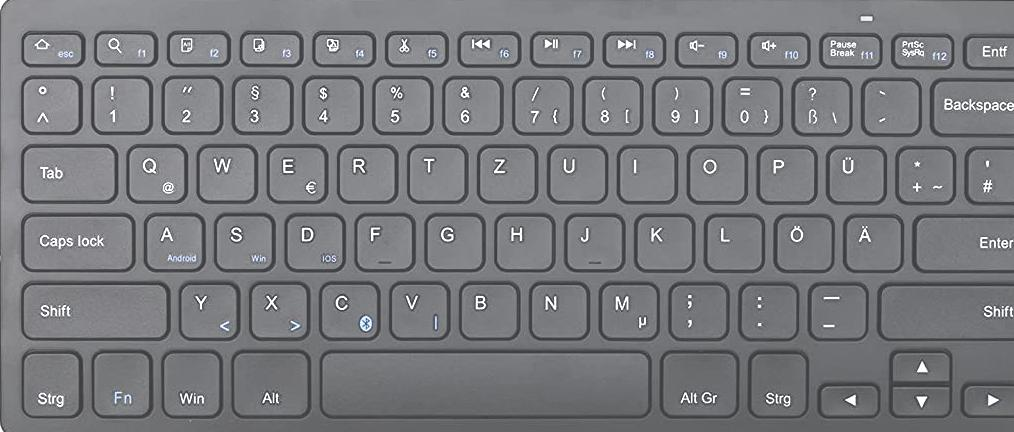0: (720, 75, 782, 134)
1: (89, 74, 151, 133)
2: (161, 74, 221, 132)
3: (230, 75, 291, 133)
4: (301, 74, 362, 133)
5: (370, 74, 432, 133)
6: (440, 75, 502, 133)
7: (511, 75, 572, 134)
8: (580, 76, 642, 134)
9: (650, 75, 712, 134)
a: (141, 210, 205, 270)
accent: (860, 76, 920, 134)
ae: (841, 212, 902, 271)
alt-left: (229, 348, 311, 418)
altgr-right: (658, 348, 740, 419)
b: (456, 280, 518, 337)
c: (316, 280, 380, 339)
caret: (19, 74, 79, 133)
comma: (666, 281, 727, 338)
d: (282, 212, 344, 271)
del: (927, 76, 1014, 135)
e: (264, 144, 327, 202)
enter: (912, 212, 1014, 272)
f: (352, 212, 412, 270)
g: (422, 211, 483, 270)
h: (492, 212, 553, 270)
hash: (964, 145, 1014, 204)
i: (615, 144, 675, 202)
j: (563, 211, 622, 270)
k: (633, 211, 693, 270)
keyboard: (1, 1, 1014, 432)
l: (703, 212, 762, 271)
m: (596, 280, 659, 339)
minus: (805, 283, 866, 338)
n: (527, 280, 588, 338)
o: (684, 144, 746, 202)
oe: (772, 212, 833, 270)
p: (755, 144, 816, 202)
plus: (894, 145, 954, 203)
point: (736, 282, 797, 338)
q: (123, 143, 187, 201)
r: (335, 144, 396, 202)
s: (211, 211, 273, 270)
shift-left: (17, 280, 169, 340)
shift-lock: (17, 211, 135, 271)
shift-right: (876, 280, 1014, 340)
space: (319, 346, 651, 418)
ss: (790, 76, 850, 134)
strg-left: (17, 348, 82, 420)
strg-right: (747, 350, 811, 420)
t: (406, 143, 466, 202)
tab: (17, 143, 116, 202)
u: (545, 143, 606, 202)
ue: (824, 144, 885, 203)
v: (387, 280, 449, 338)
w: (194, 143, 256, 201)
x: (247, 280, 309, 339)
y: (177, 281, 238, 338)
z: (475, 143, 537, 202)
